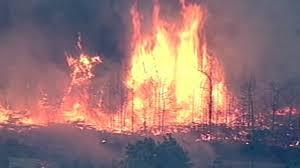fire: (120, 0, 231, 131)
